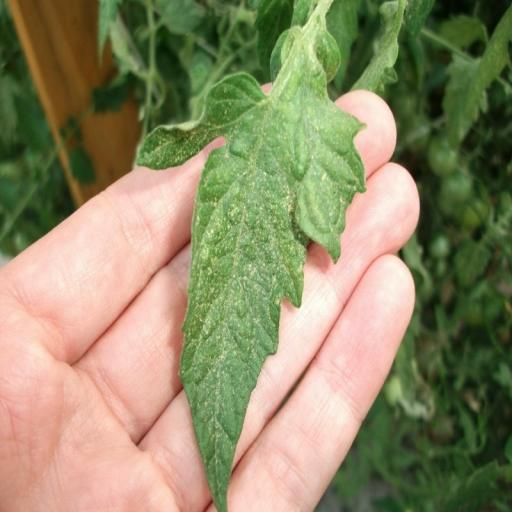disease_tomato: (132, 47, 366, 509)
